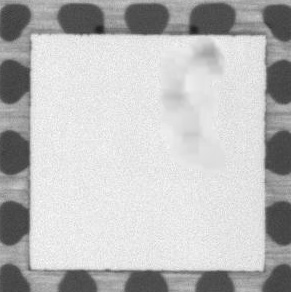DIE_INK: (156, 33, 228, 178)
